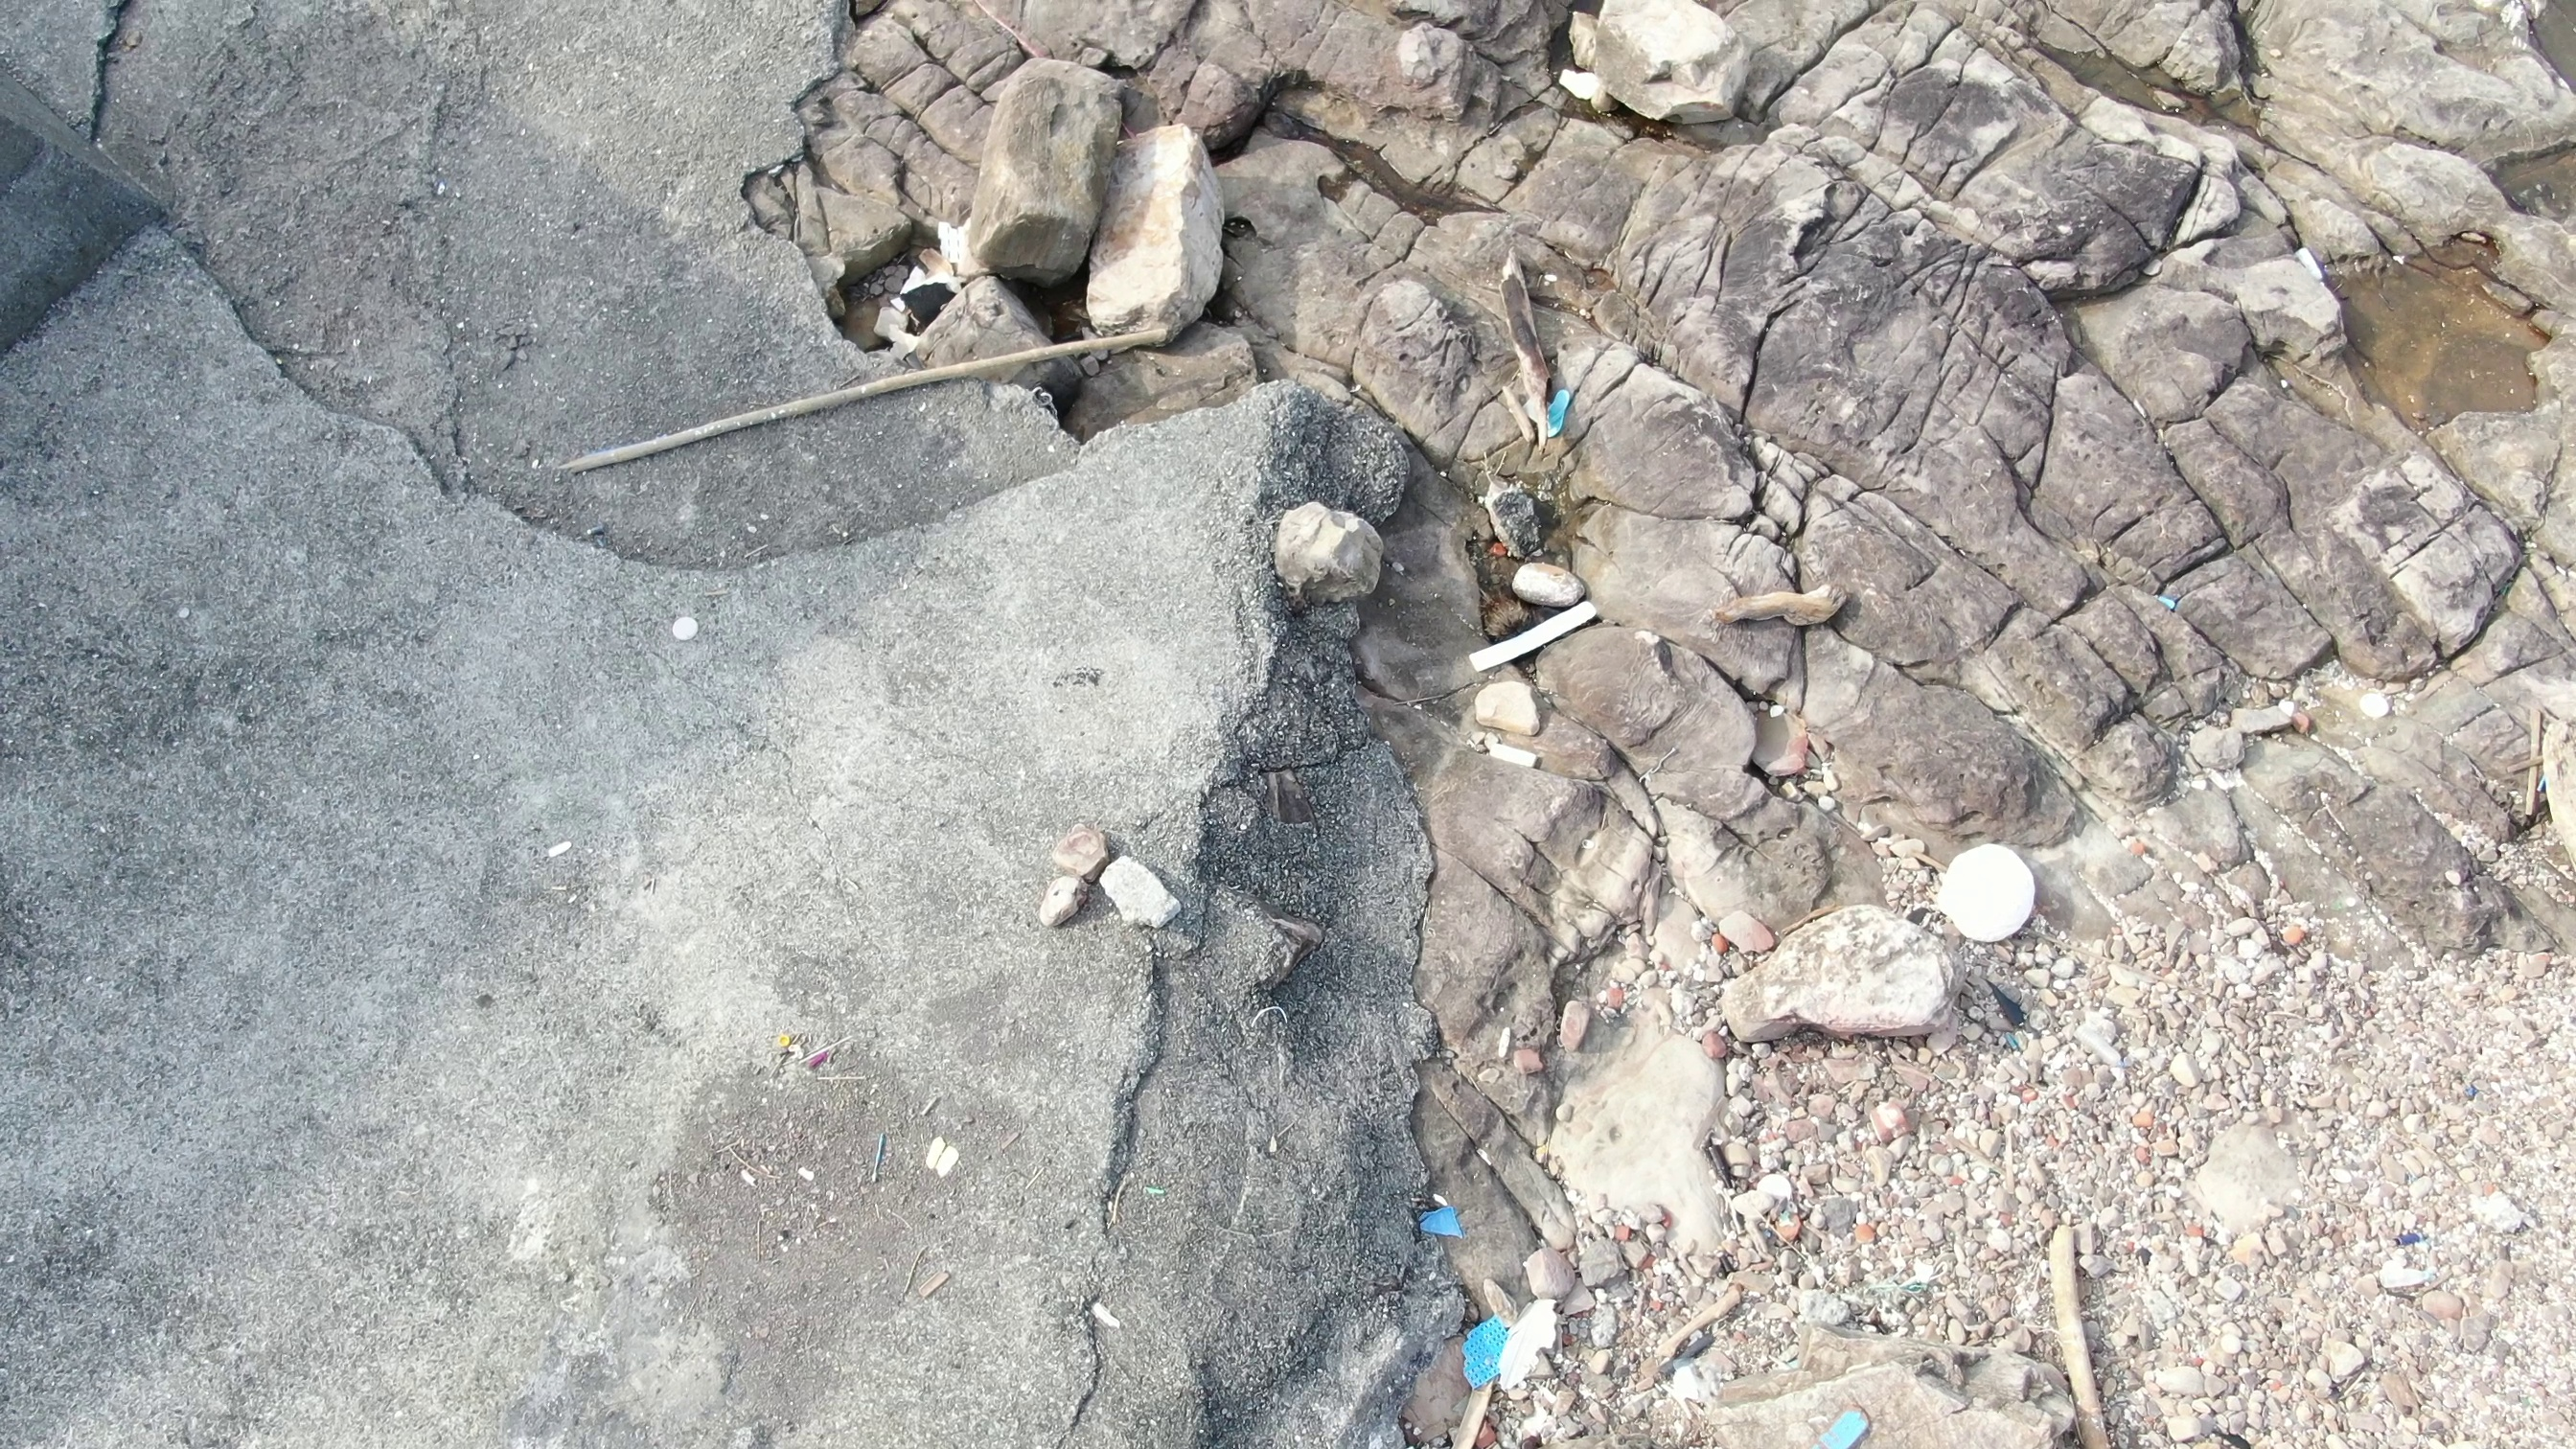garbage: (1454, 1297, 1514, 1401), (1805, 1389, 1898, 1447), (1408, 1191, 1468, 1247), (1541, 372, 1589, 435)
